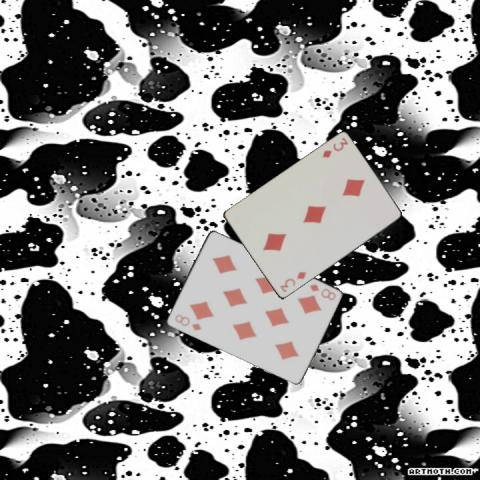3d: (277, 269, 307, 294), (320, 135, 350, 159)
8d: (171, 311, 202, 332), (306, 281, 337, 302)
